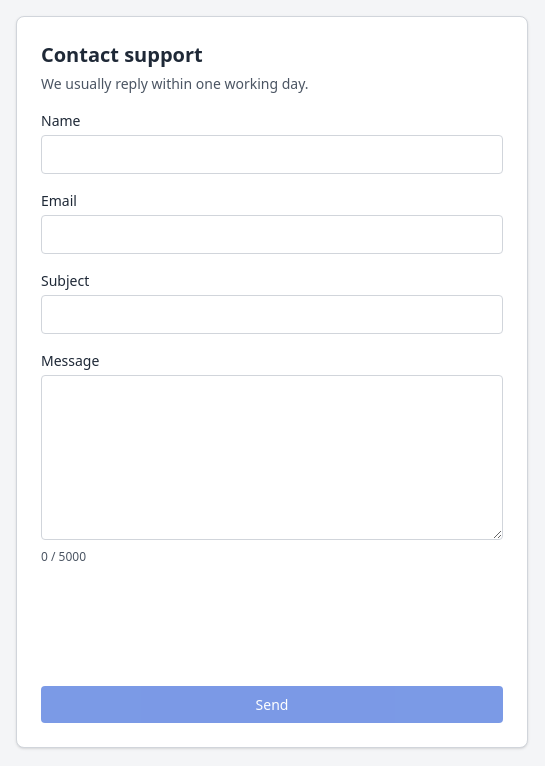
it: the public contact form › shows nothing but the thank-you and the reference (no AI output, no job information)
Type "Ada Lovelace" into the field labelled "Name" at (272, 154), box [41,135,503,174]
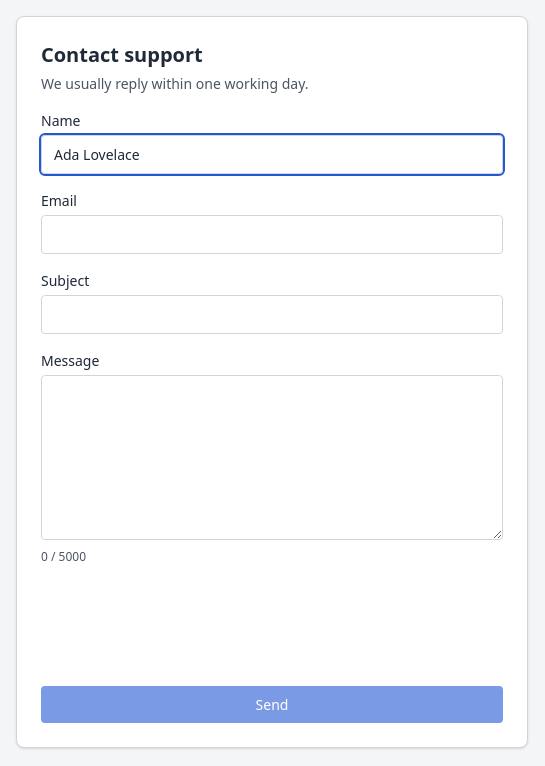
Type "ada@example.com" into the field labelled "Email" at (272, 234), box [41,215,503,254]
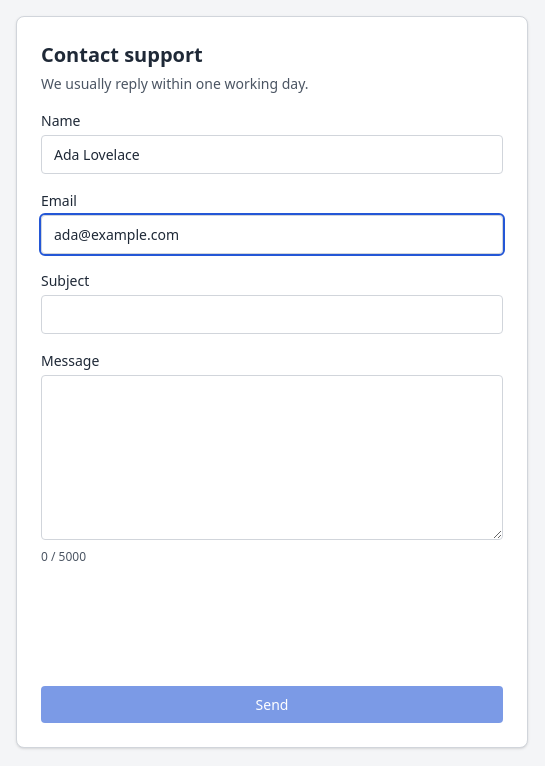
Type "Invoice" into the field labelled "Subject" at (272, 314), box [41,295,503,334]
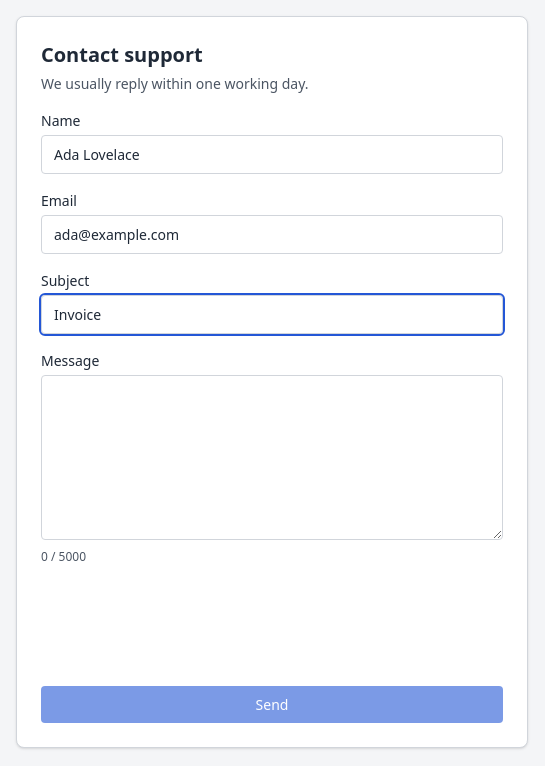
Type "Where is my invoice?" into the text box labelled "Message" at (272, 458), box [41,375,503,540]
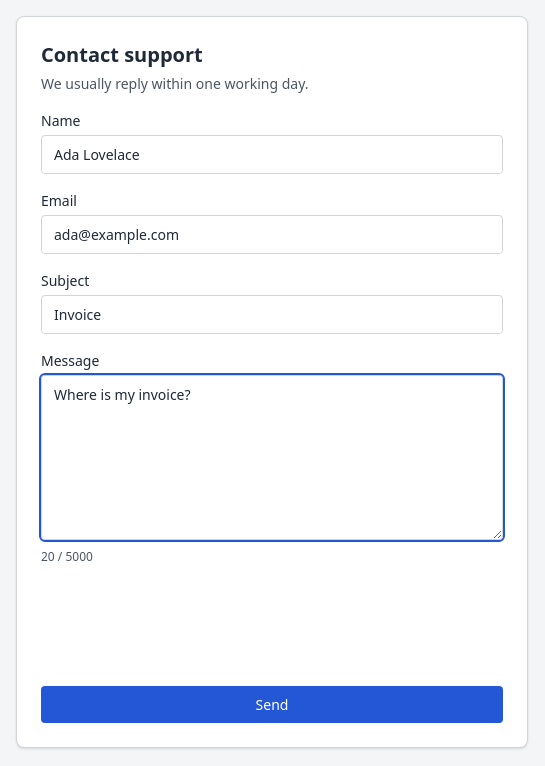
Click the button "Send" at (272, 704), box [41,686,503,723]
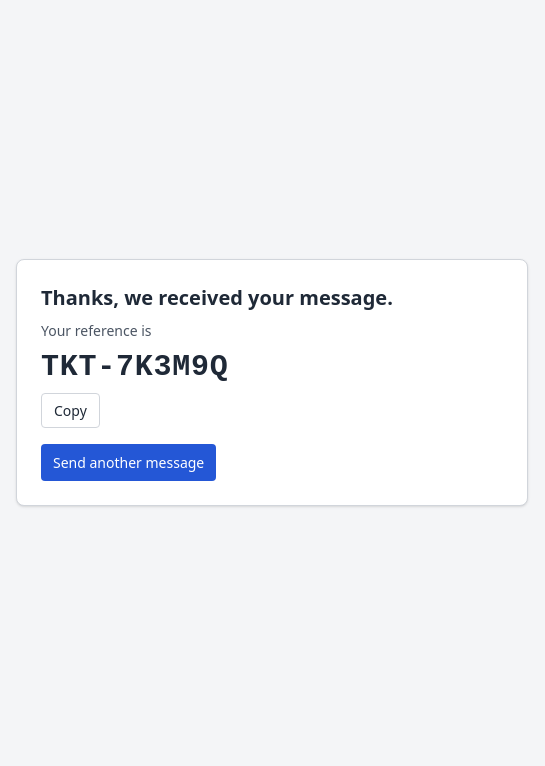
Result: the text "TKT-7K3M9Q" is shown at [41,350,228,384]
Result: the text "AI TEXT" is gone
